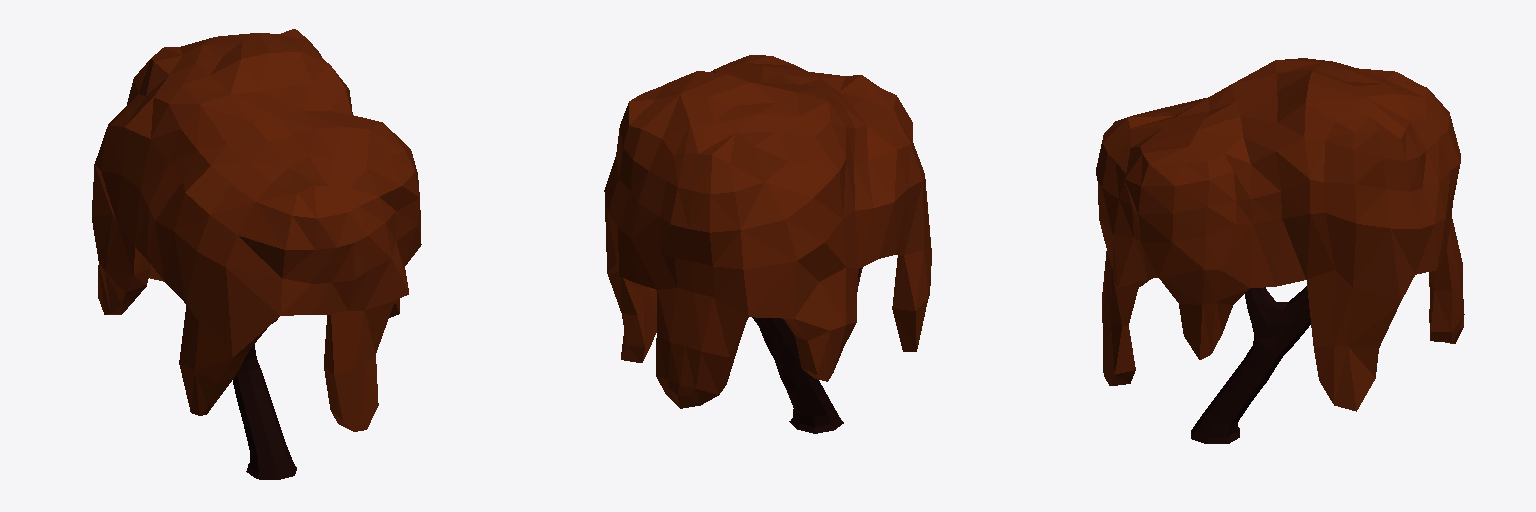
The model's file is Willow_Autumn_4_Cube.obj.
3 views of the same model, side by side, from view 1: azimuth 30°, elevation 25°; view 2: azimuth 150°, elevation 25°; view 3: azimuth 270°, elevation 25° (orthographic).
Visible parts, largest first — view 1: Willow_Autumn_4_Cube.085; view 2: Willow_Autumn_4_Cube.085; view 3: Willow_Autumn_4_Cube.085.
Part boxes in pixels (left/top/right/bottom): Willow_Autumn_4_Cube.085: left=92, top=29, right=421, bottom=479; Willow_Autumn_4_Cube.085: left=604, top=55, right=931, bottom=433; Willow_Autumn_4_Cube.085: left=1096, top=58, right=1464, bottom=443.
Bounding box in the file's own units: 2.19 × 3.39 × 3.04.